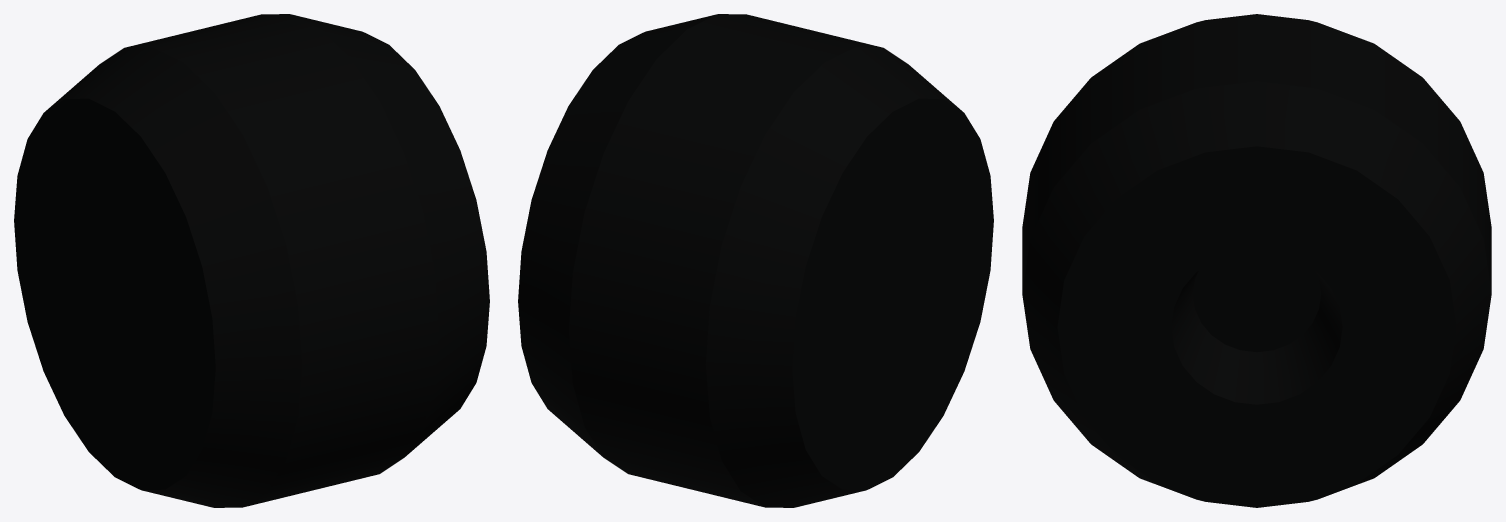
File: wheel-dark.glb
3 views of the same model, side by side, from view 1: azimuth 30°, elevation 25°; view 2: azimuth 150°, elevation 25°; view 3: azimuth 270°, elevation 25° (orthographic).
Parts seen in each view (by area): view 1: wheel-dark; view 2: wheel-dark; view 3: wheel-dark.
Part boxes in pixels (x1,y1,x2,y2): wheel-dark: (14,14,489,507); wheel-dark: (518,14,993,507); wheel-dark: (1022,14,1491,507).
Bounding box in the file's own units: 0.4001 × 0.6 × 0.6.
Materials: 1 (1 with a texture image).
